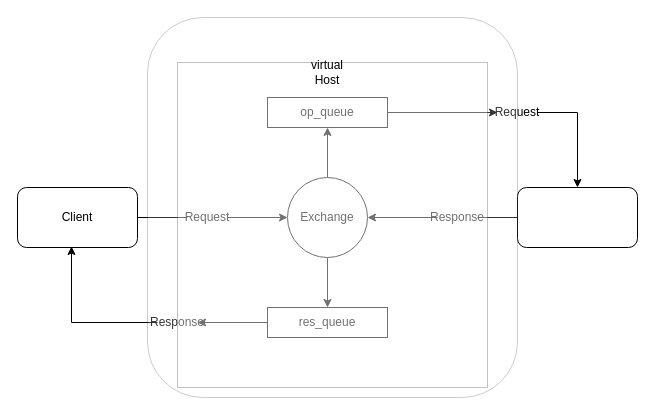
The diagram is 655 pixels wide and 415 high, and some of its shapes have lost their labels. The shapes that lost their labels are listed below. From the top down, each one's centre as x and y in pixels, then its label:
(x=332, y=207): Server/Broker
(x=577, y=217): Service
